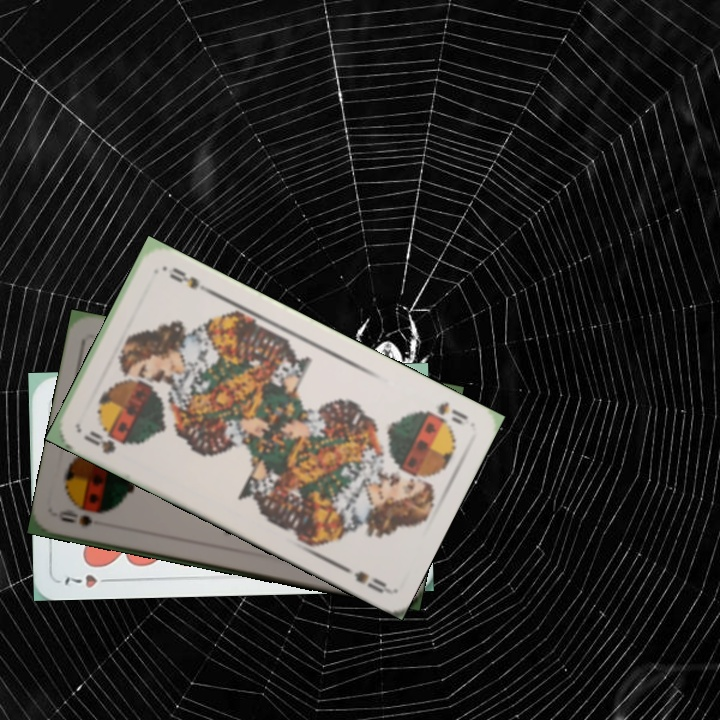H7: (61, 570, 117, 590)
SO: (79, 426, 130, 457), (433, 398, 471, 428), (55, 505, 95, 529)
